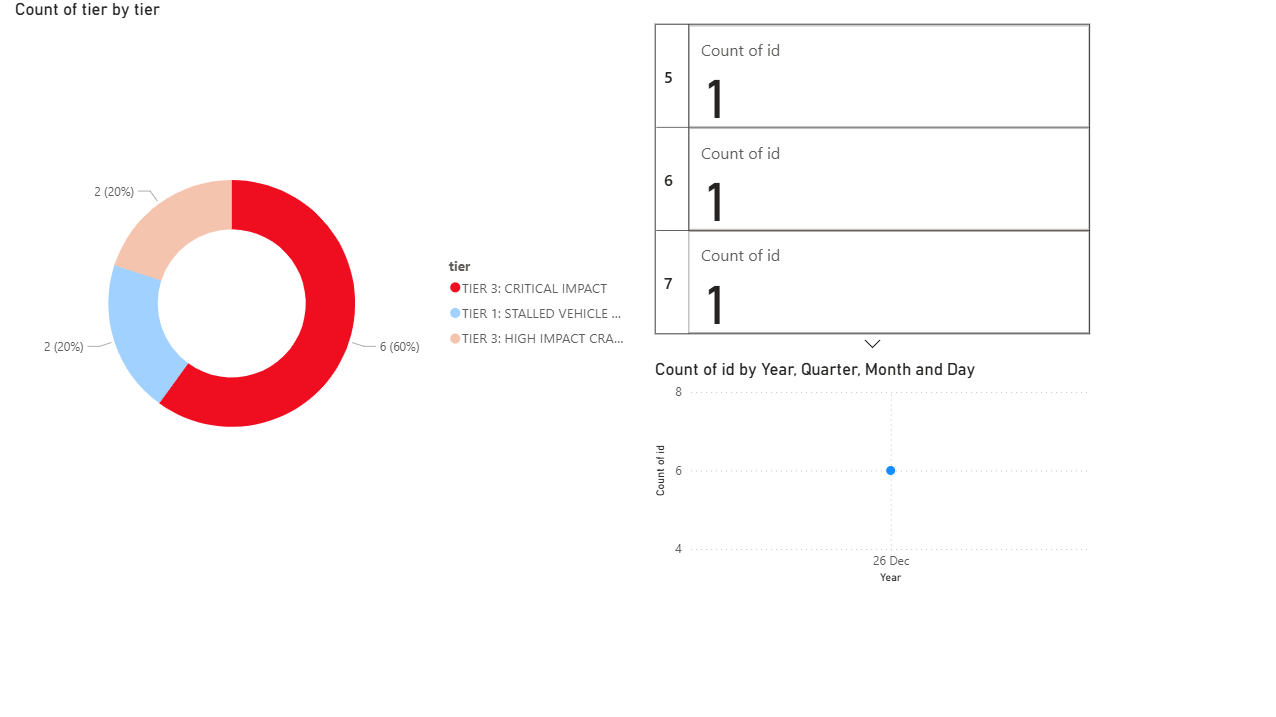

The dashboard page shown, as its layout file describes it:
{"tool":"powerbi","page":{"name":"Page 1","canvas":[1280,720],"ordinal":0},"visuals":[{"type":"donutChart","fields":{"Category":["crash_analytics.tier"],"Y":["CountNonNull(crash_analytics.tier)"]},"box":[9.6,0,629.8,590.1],"z":0},{"type":"cardVisual","fields":{"Rows":["crash_analytics.id"],"Data":["CountNonNull(crash_analytics.id)"]},"box":[650,0,445,360],"z":1},{"type":"lineChart","fields":{"Y":["CountNonNull(crash_analytics.id)"],"Category":["crash_analytics.timestamp"]},"box":[650,360,445,230],"z":2}]}

Visuals, with their boxes in screenshot pixels (x1, y1, x2, y2), scaled from the page's 1280x720 canvas onto the 1276x717 screenshot:
donutChart - crash_analytics.tier x CountNonNull(crash_analytics.tier): 10 0 637 588
cardVisual - crash_analytics.id x CountNonNull(crash_analytics.id): 648 0 1092 358
lineChart - CountNonNull(crash_analytics.id) x crash_analytics.timestamp: 648 358 1092 588
